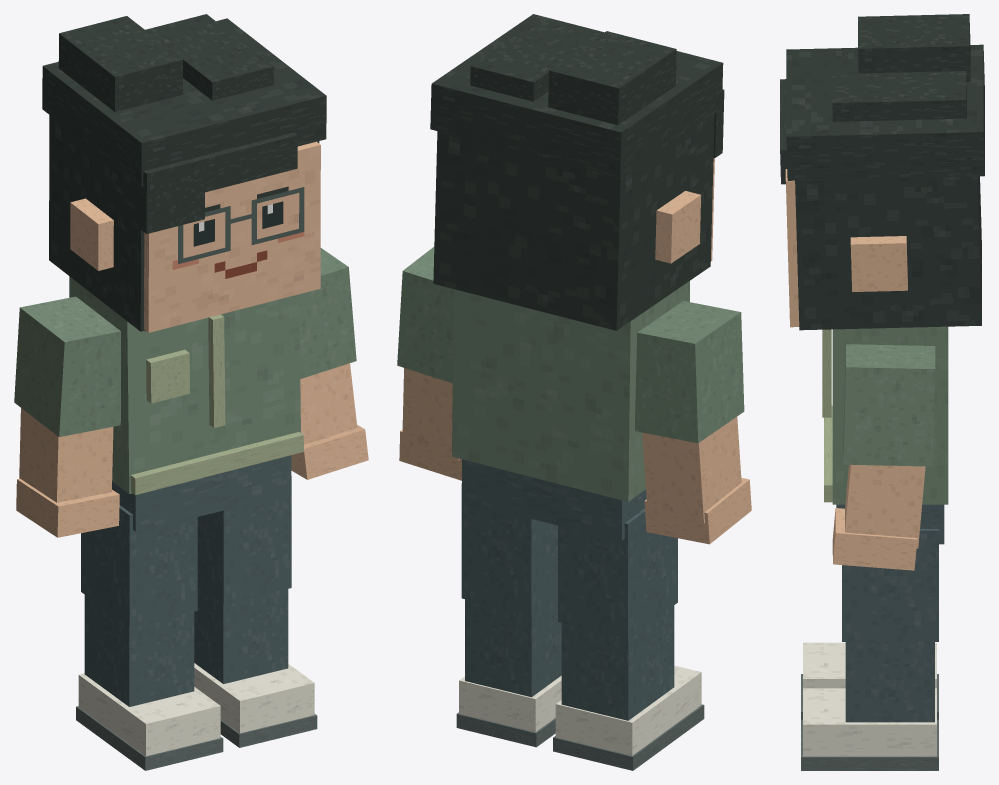
The picture shows the model from 3 angles, left to right: view 1: azimuth 30°, elevation 25°; view 2: azimuth 150°, elevation 25°; view 3: azimuth 270°, elevation 25°; orthographic projection. The views are drawn at different scales.
Visible parts, largest first — view 1: hair:spiky, object 2, object 8, object 13, object 7, object 19, object 20, object 23, object 24, object 21, object 1, object 14 (+12 smaller); view 2: object 7, object 2, hair:spiky, object 13, object 19, object 20, object 23, object 24, object 14, object 1, object 16, object 21 (+7 smaller); view 3: hair:spiky, object 7, object 16, object 23, object 24, object 2, object 25, object 17, object 10, object 18, object 26, object 21 (+4 smaller).
Boxes of the visible parts, left/top/right/bottom form: hair:spiky: left=42, top=14, right=326, bottom=233; object 2: left=69, top=276, right=300, bottom=493; object 8: left=144, top=141, right=320, bottom=332; object 13: left=14, top=296, right=120, bottom=437; object 7: left=49, top=115, right=319, bottom=331; object 19: left=81, top=505, right=197, bottom=627; object 20: left=84, top=595, right=194, bottom=706; object 23: left=197, top=476, right=291, bottom=604; object 24: left=194, top=586, right=288, bottom=683; object 21: left=78, top=673, right=220, bottom=756; object 1: left=112, top=455, right=291, bottom=531; object 14: left=19, top=408, right=113, bottom=502; object 7: left=433, top=114, right=714, bottom=330; object 2: left=452, top=281, right=689, bottom=501; hair:spiky: left=430, top=14, right=724, bottom=177; object 13: left=635, top=301, right=744, bottom=443; object 19: left=558, top=508, right=677, bottom=638; object 20: left=561, top=605, right=674, bottom=720; object 23: left=461, top=483, right=557, bottom=615; object 24: left=465, top=596, right=561, bottom=697; object 14: left=642, top=417, right=741, bottom=523; object 1: left=462, top=459, right=646, bottom=540; object 16: left=397, top=247, right=453, bottom=383; object 21: left=555, top=665, right=701, bottom=755; hair:spiky: left=780, top=14, right=984, bottom=184; object 7: left=795, top=176, right=981, bottom=330; object 16: left=843, top=344, right=935, bottom=466; object 23: left=842, top=529, right=938, bottom=641; object 24: left=845, top=642, right=934, bottom=722; object 2: left=832, top=326, right=948, bottom=504; object 25: left=803, top=688, right=936, bottom=756; object 17: left=845, top=464, right=925, bottom=548; object 10: left=850, top=236, right=907, bottom=291; object 18: left=832, top=508, right=917, bottom=570; object 26: left=801, top=719, right=938, bottom=770; object 21: left=803, top=642, right=936, bottom=688.
Bounding box in the file's own units: 0.9468 × 2 × 0.55.
8 materials, 8 textured.
